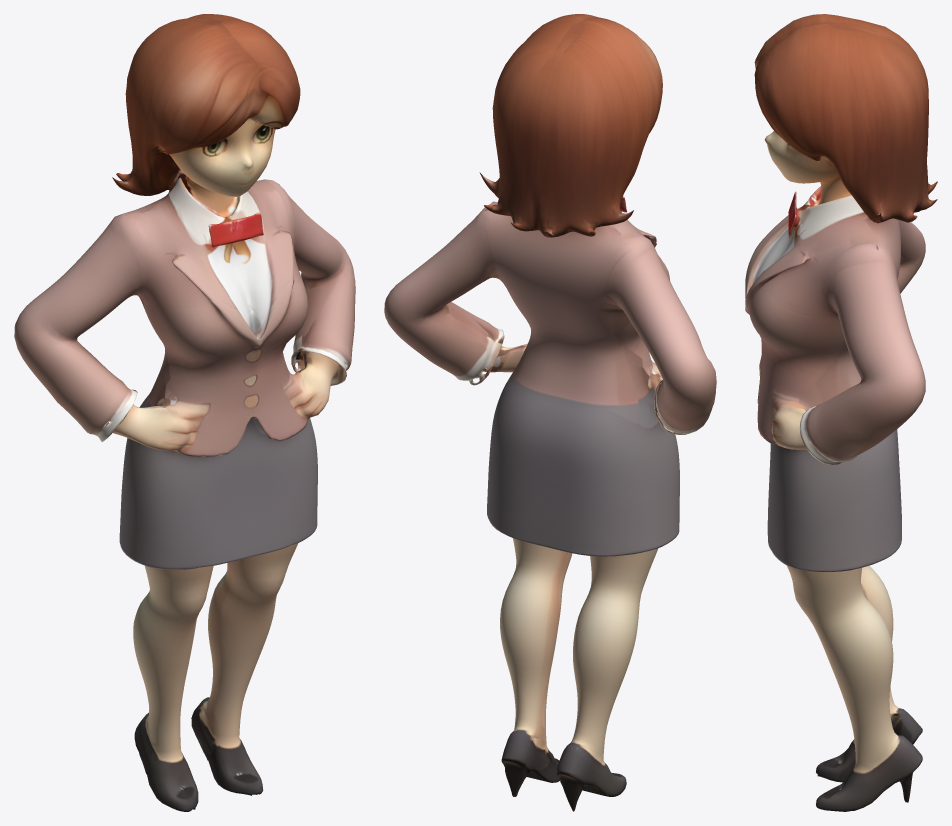
Rendered from laksmi.glb.
3 views of the same model, side by side, from view 1: azimuth 30°, elevation 25°; view 2: azimuth 150°, elevation 25°; view 3: azimuth 270°, elevation 25° (orthographic). The views are drawn at different scales.
Visible parts, largest first — view 1: model; view 2: model; view 3: model.
Boxes of the visible parts, left/top/right/bottom form: model: left=14, top=14, right=355, bottom=811; model: left=384, top=14, right=716, bottom=811; model: left=745, top=14, right=937, bottom=811.
Size of the model in its own units: 1.31 by 2.97 by 0.6742.
Materials: 1 (1 with a texture image).
